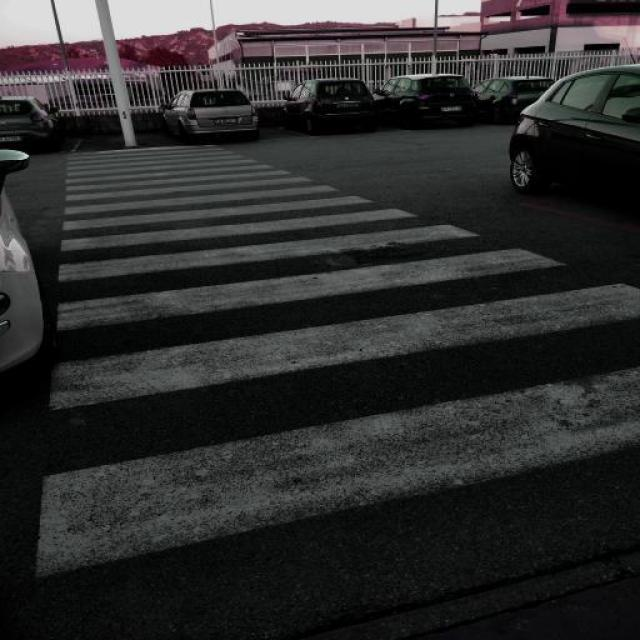crosswalk: (43, 144, 640, 577)
